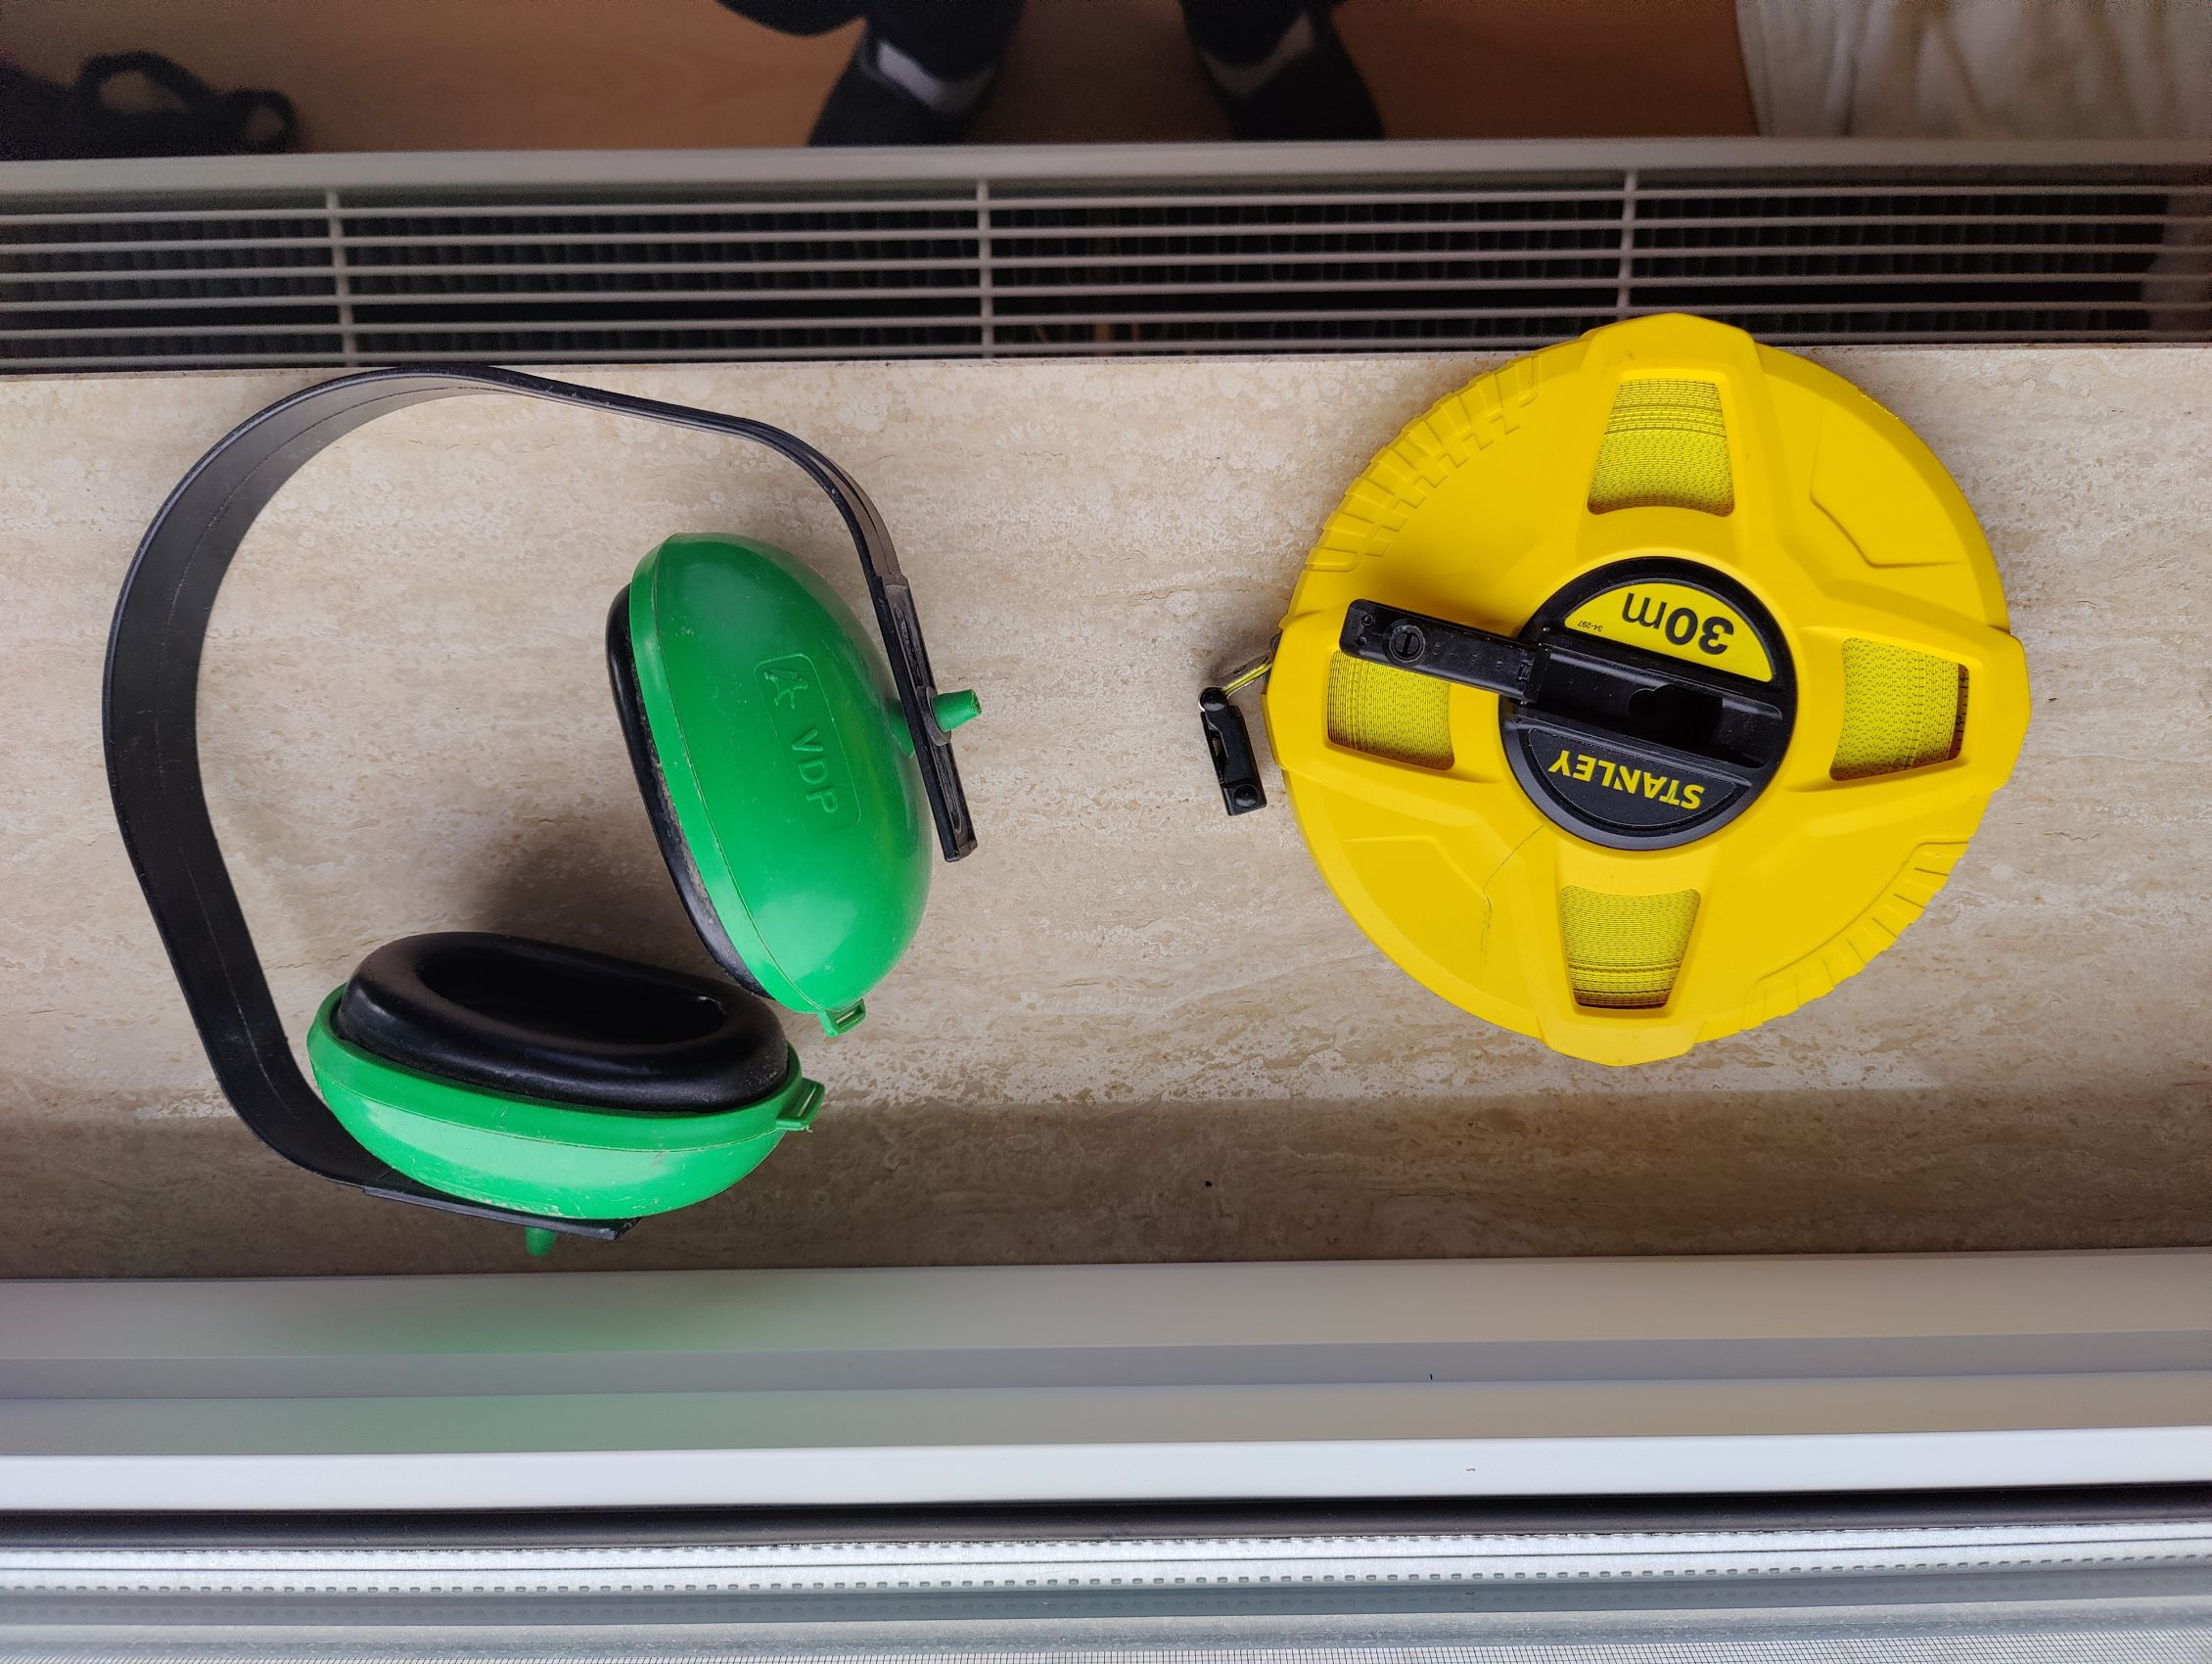headphones: (91, 365, 991, 1265)
tapemeasure: (1199, 311, 2029, 1064)
